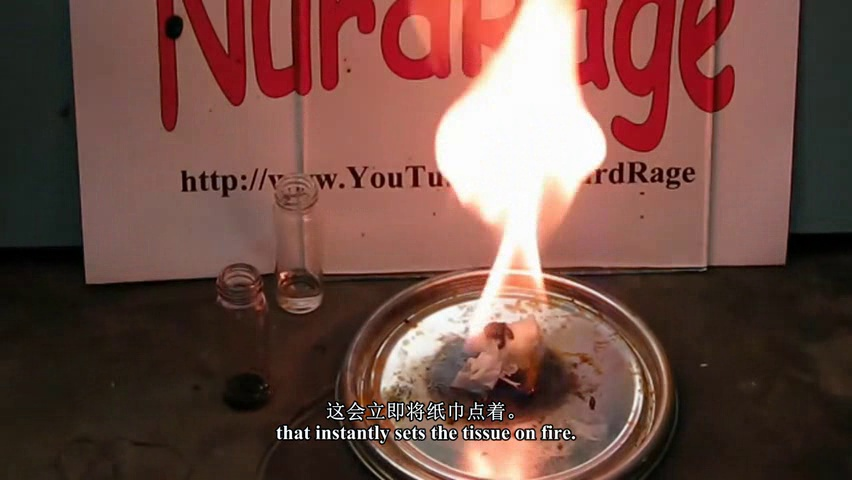fire: (420, 1, 608, 393)
